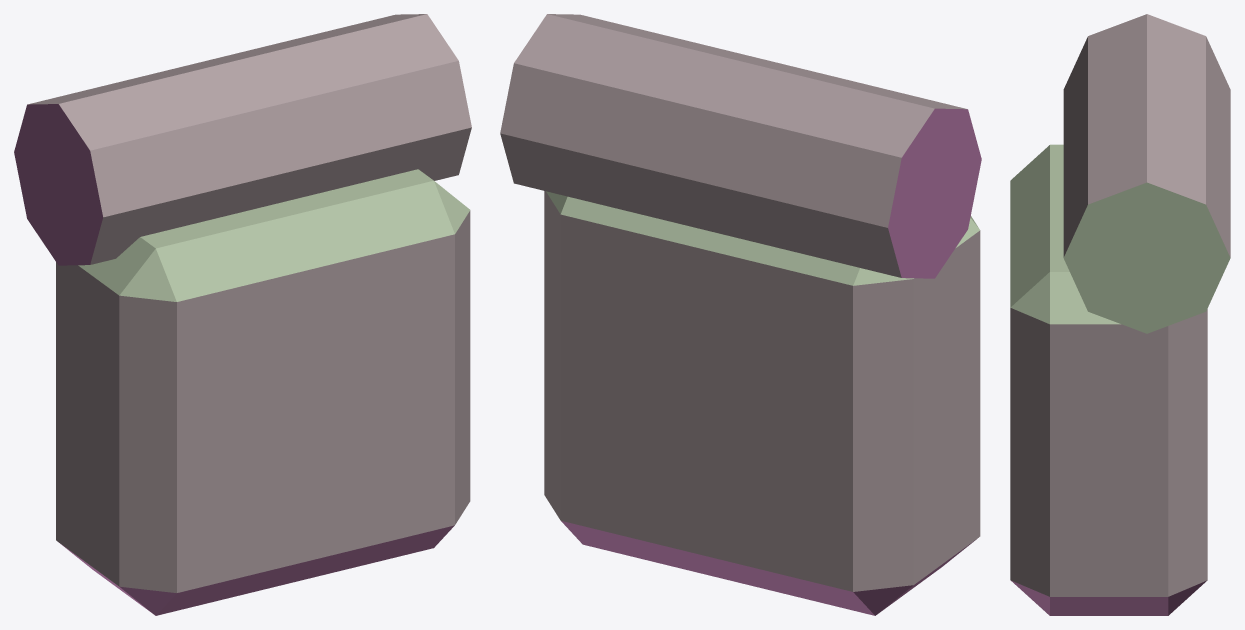
The model's file is npc_module_pack_v01.glb.
The picture shows the model from 3 angles, left to right: view 1: azimuth 30°, elevation 25°; view 2: azimuth 150°, elevation 25°; view 3: azimuth 270°, elevation 25°; orthographic projection. The views are drawn at different scales.
Parts seen in each view (by area): view 1: GEO_npc_module_pack_v01; view 2: GEO_npc_module_pack_v01; view 3: GEO_npc_module_pack_v01.
Part boxes in pixels (x1=…): GEO_npc_module_pack_v01: x1=14, y1=14, x2=471, y2=615; GEO_npc_module_pack_v01: x1=500, y1=14, x2=981, y2=615; GEO_npc_module_pack_v01: x1=1010, y1=14, x2=1230, y2=615.
Bounding box in the file's own units: 1.05 × 1.32 × 0.58.
